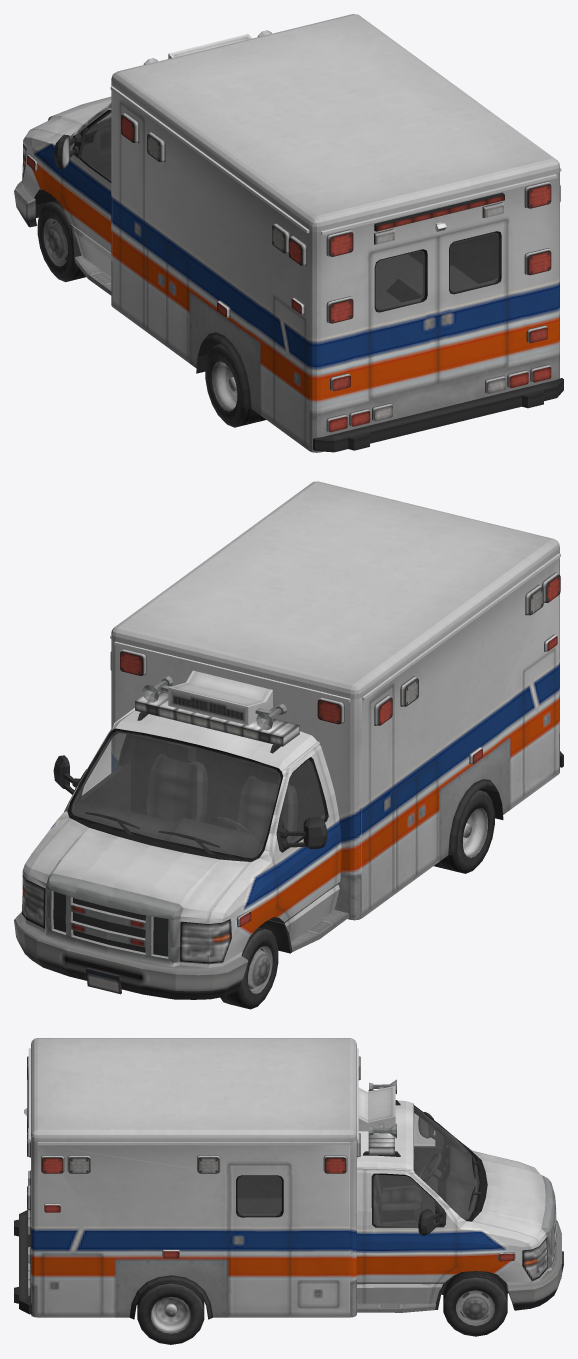
Rendered from 救护车Draco.glb.
The picture shows the model from 3 angles, top to bottom: view 1: azimuth 30°, elevation 25°; view 2: azimuth 150°, elevation 25°; view 3: azimuth 270°, elevation 25°; orthographic projection. The views are drawn at different scales.
Visible parts, largest first — view 1: Ambulance01_Ambulance01_0, Ambulance01_Ambulance01Glass_0, WheelBL001_Ambulance01_0, WheelFL001_Ambulance01_0; view 2: Ambulance01_Ambulance01_0, Ambulance01_Ambulance01Glass_0, WheelBL001_Ambulance01_0, WheelFL001_Ambulance01_0; view 3: Ambulance01_Ambulance01_0, Ambulance01_Ambulance01Glass_0, WheelFL_Ambulance01_0, WheelBR001_Ambulance01_0.
Part boxes in pixels (x1=…): Ambulance01_Ambulance01_0: x1=14, y1=14, x2=563, y2=452; Ambulance01_Ambulance01Glass_0: x1=81, y1=112, x2=498, y2=309; WheelBL001_Ambulance01_0: x1=205, y1=344, x2=266, y2=427; WheelFL001_Ambulance01_0: x1=37, y1=200, x2=85, y2=282; Ambulance01_Ambulance01_0: x1=14, y1=481, x2=563, y2=999; Ambulance01_Ambulance01Glass_0: x1=72, y1=731, x2=325, y2=857; WheelBL001_Ambulance01_0: x1=434, y1=790, x2=494, y2=873; WheelFL001_Ambulance01_0: x1=220, y1=927, x2=278, y2=1009; Ambulance01_Ambulance01_0: x1=14, y1=1038, x2=563, y2=1319; Ambulance01_Ambulance01Glass_0: x1=237, y1=1106, x2=479, y2=1225; WheelFL_Ambulance01_0: x1=443, y1=1271, x2=507, y2=1336; WheelBR001_Ambulance01_0: x1=137, y1=1281, x2=204, y2=1344.
Size of the model in its own units: 2.81 by 2.68 by 6.24.
Materials: 2 (2 with a texture image).
